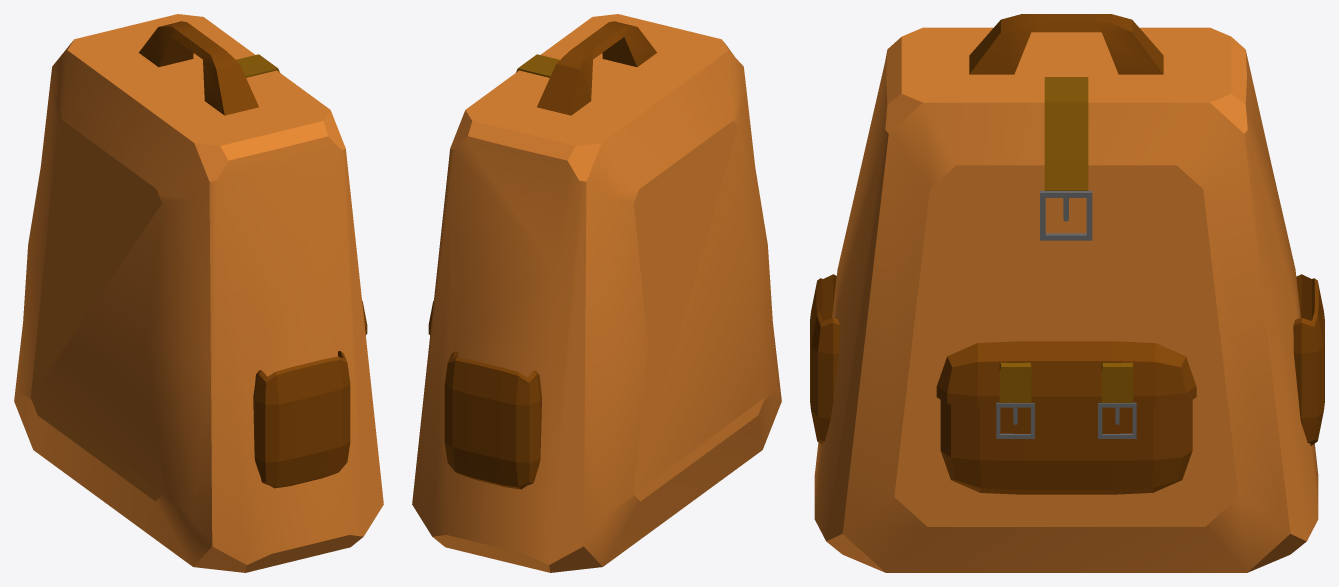
The model's file is Backpack.fbx.
3 views of the same model, side by side, from view 1: azimuth 30°, elevation 25°; view 2: azimuth 150°, elevation 25°; view 3: azimuth 270°, elevation 25° (orthographic). The views are drawn at different scales.
Parts seen in each view (by area): view 1: Cube, Plane.002, Cube.007, Cube.003; view 2: Cube, Plane.001, Cube.007, Cube.003; view 3: Cube, Plane, Cube.007, Cube.003, Plane.001, Plane.002, Cube.004, Cube.002, Cube.001, Cube.005, Cube.006.
Part boxes in pixels (box(x1,y1,x2,y2)): Cube: box(14, 14, 383, 572); Plane.002: box(253, 351, 350, 488); Cube.007: box(139, 21, 258, 115); Cube.003: box(236, 54, 279, 77); Cube: box(412, 14, 781, 572); Plane.001: box(444, 351, 541, 489); Cube.007: box(537, 21, 656, 115); Cube.003: box(516, 54, 559, 77); Cube: box(814, 27, 1318, 572); Plane: box(936, 341, 1196, 494); Cube.007: box(969, 14, 1163, 74); Cube.003: box(1044, 77, 1088, 190); Plane.001: box(1293, 274, 1324, 445); Plane.002: box(810, 274, 839, 444); Cube.004: box(1040, 190, 1092, 240); Cube.002: box(999, 362, 1031, 402); Cube.001: box(1101, 362, 1133, 402); Cube.005: box(1098, 402, 1136, 438); Cube.006: box(996, 402, 1034, 438).
Bounding box in the file's own units: 290 × 550 × 506.
